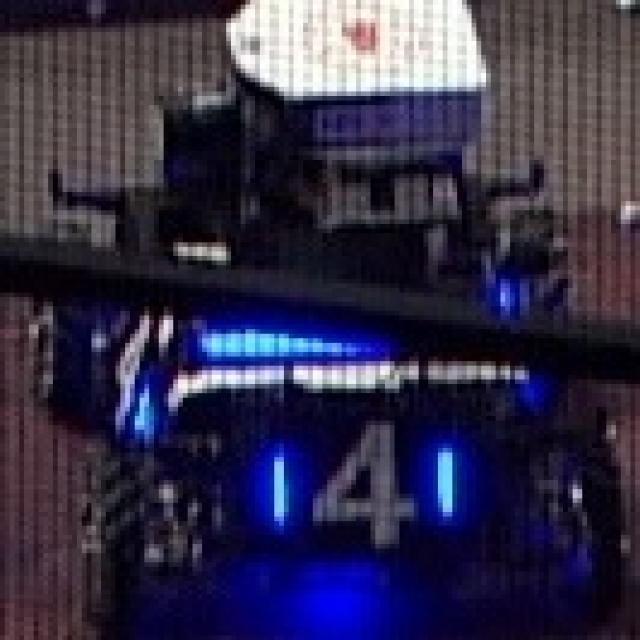B4: (265, 421, 462, 553)
